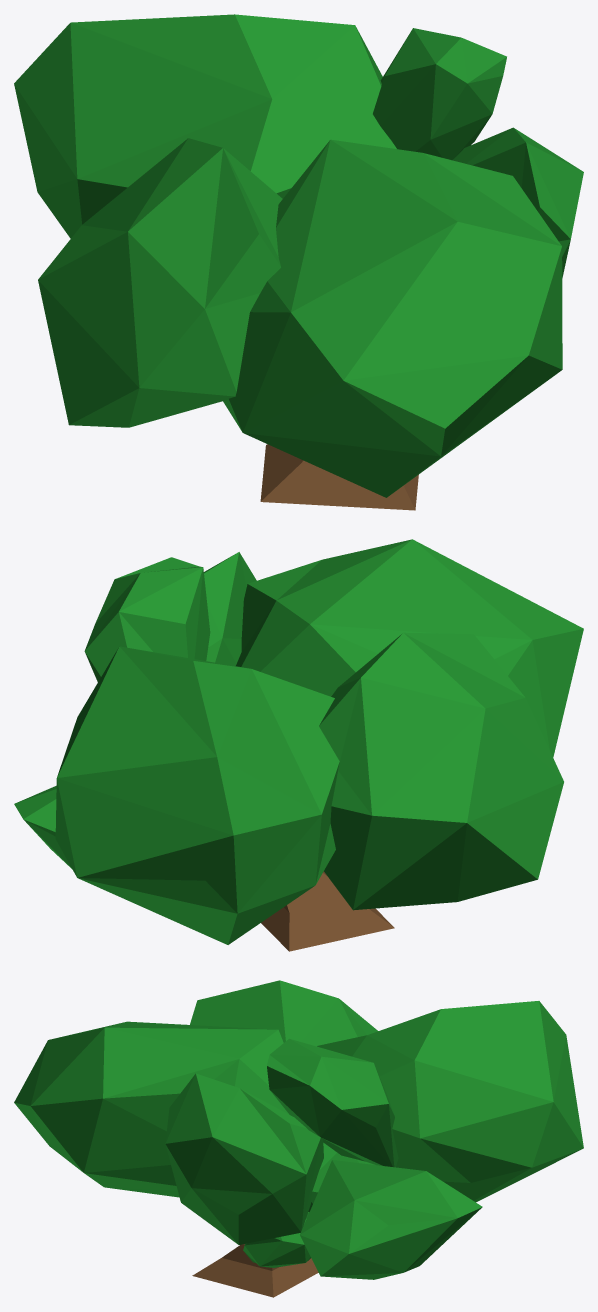
Rendered from tree5.fbx.
The picture shows the model from 3 angles, top to bottom: view 1: azimuth 30°, elevation 25°; view 2: azimuth 150°, elevation 25°; view 3: azimuth 270°, elevation 25°; orthographic projection. The views are drawn at different scales.
Visible parts, largest first — view 1: Tree5; view 2: Tree5; view 3: Tree5.
Boxes of the visible parts, bbox=[...] form: Tree5: bbox=[14, 14, 583, 510]; Tree5: bbox=[14, 539, 583, 951]; Tree5: bbox=[14, 980, 583, 1297].
Size of the model in its own units: 276 by 203 by 392.
